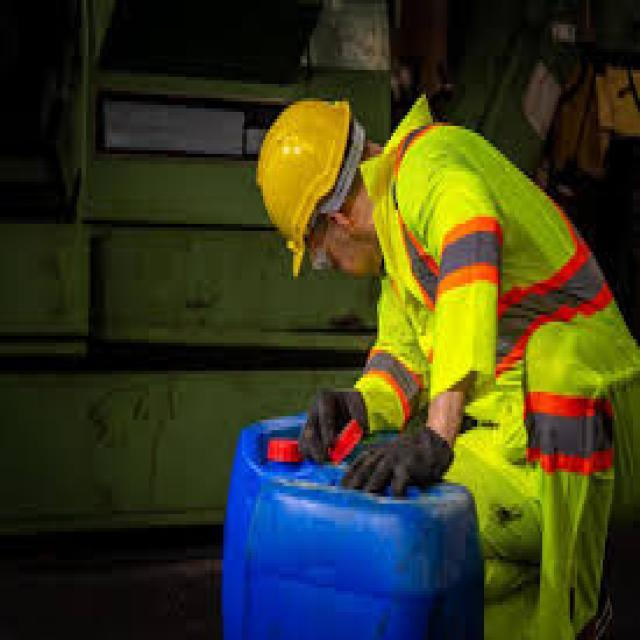gloved: (340, 419, 454, 496), (296, 384, 368, 462)
